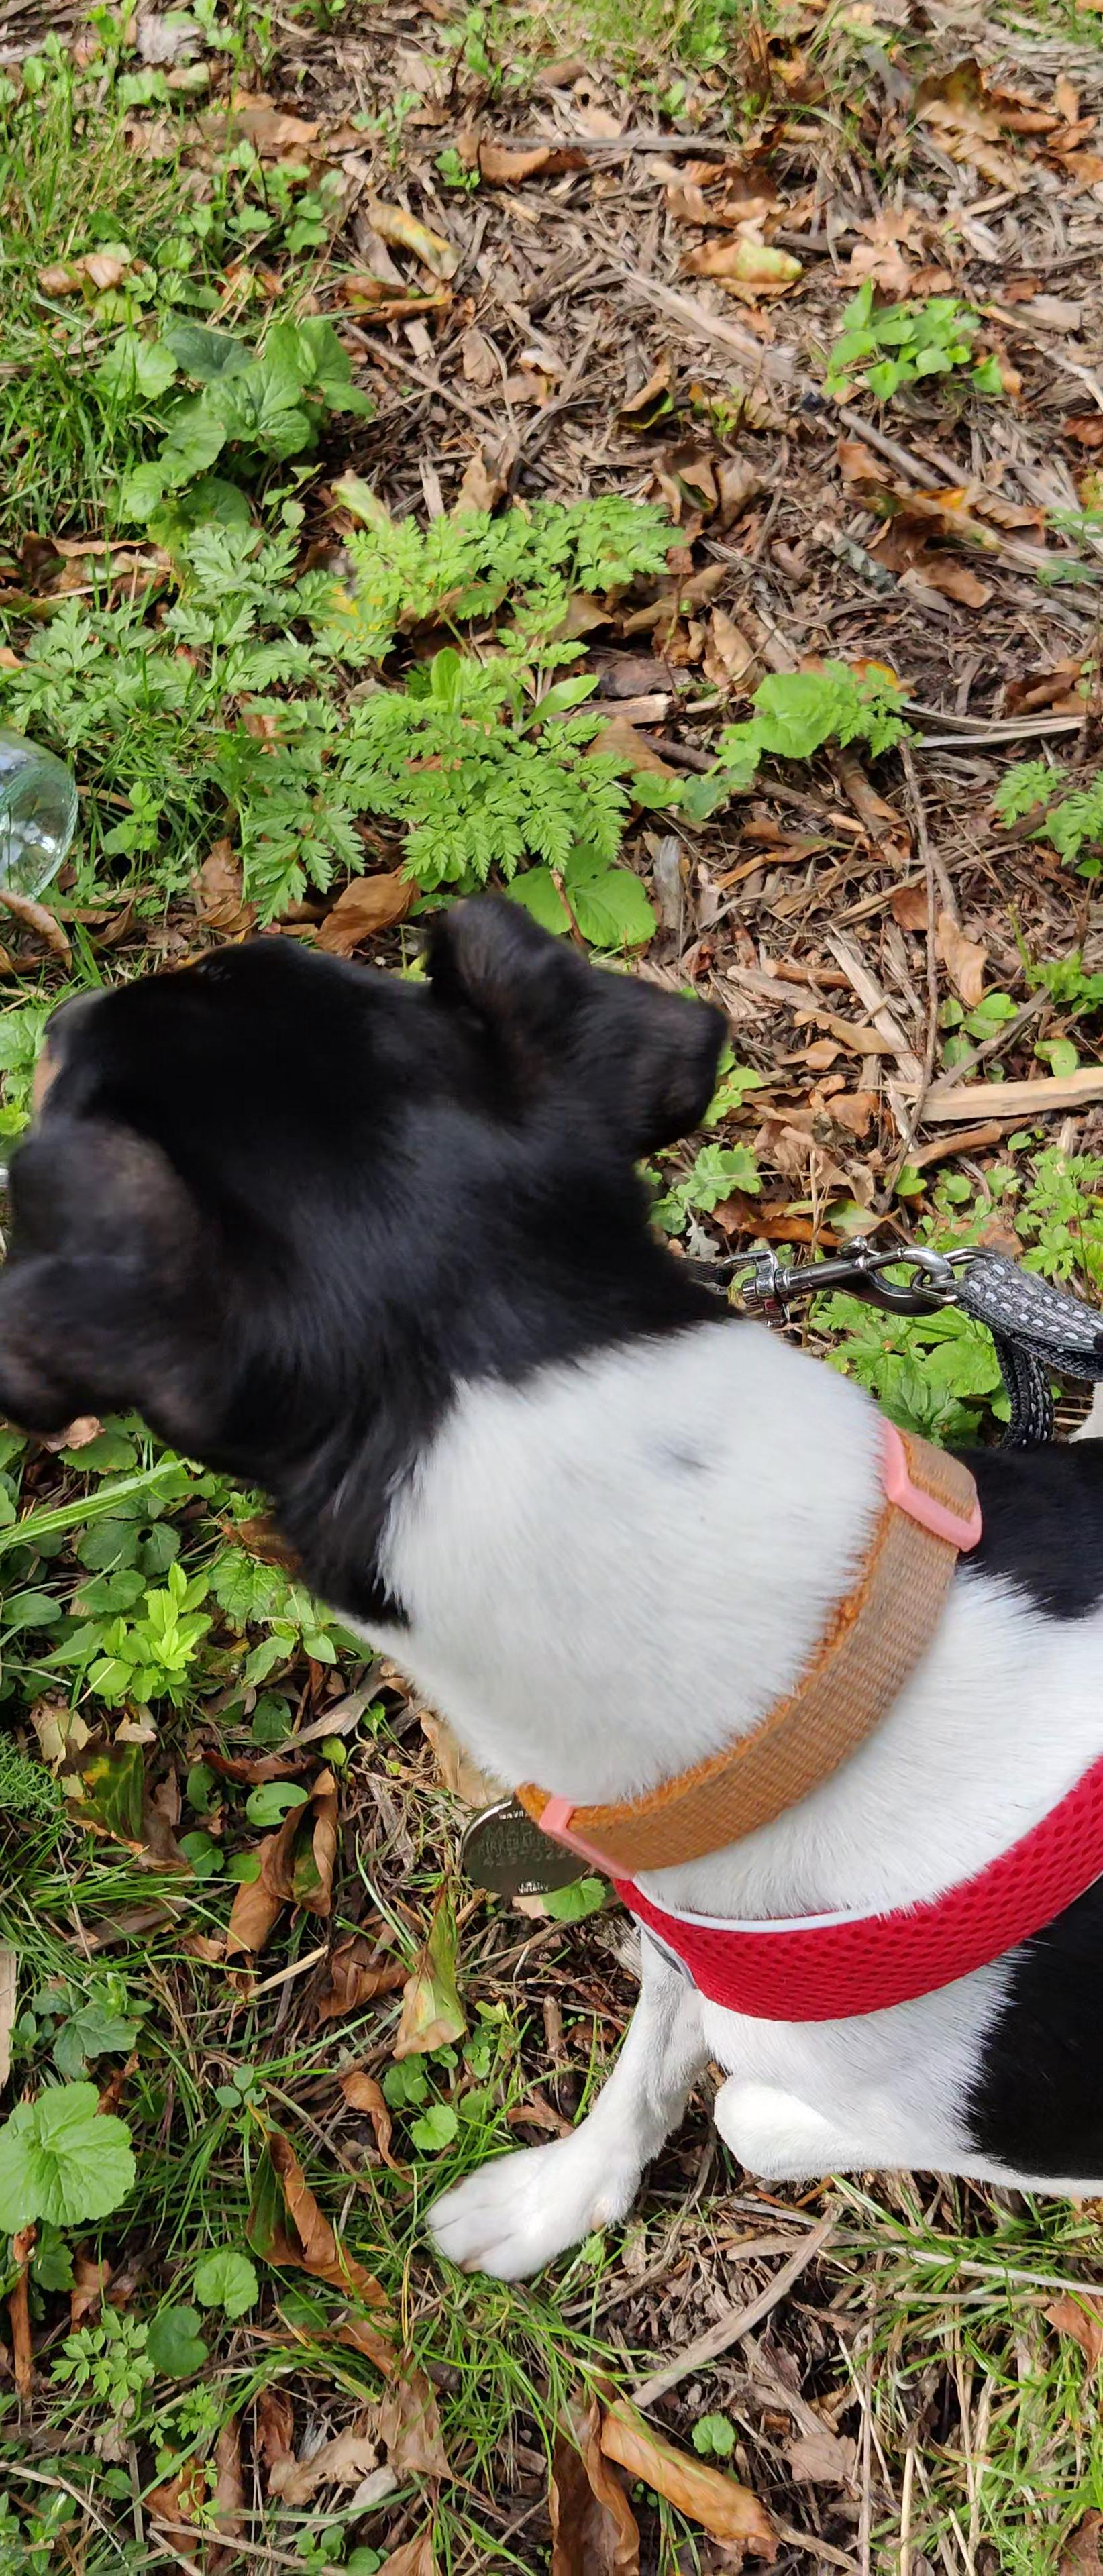Dog: (0, 871, 1103, 2297)
